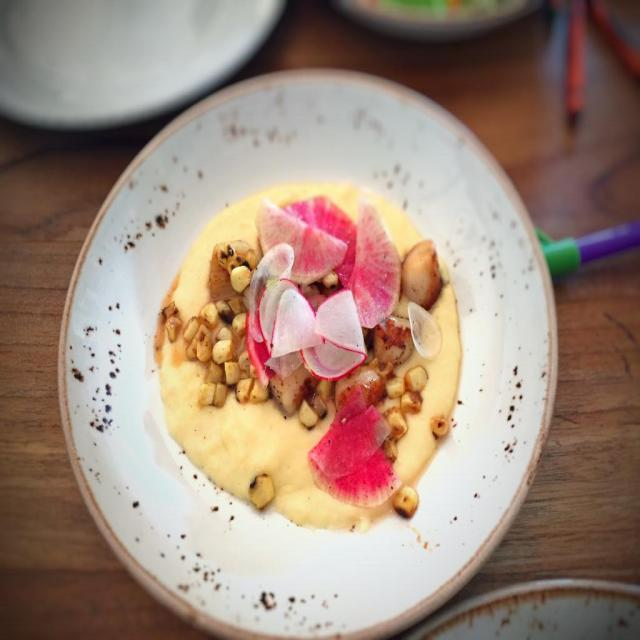non-organic waste: (51, 60, 546, 640)
